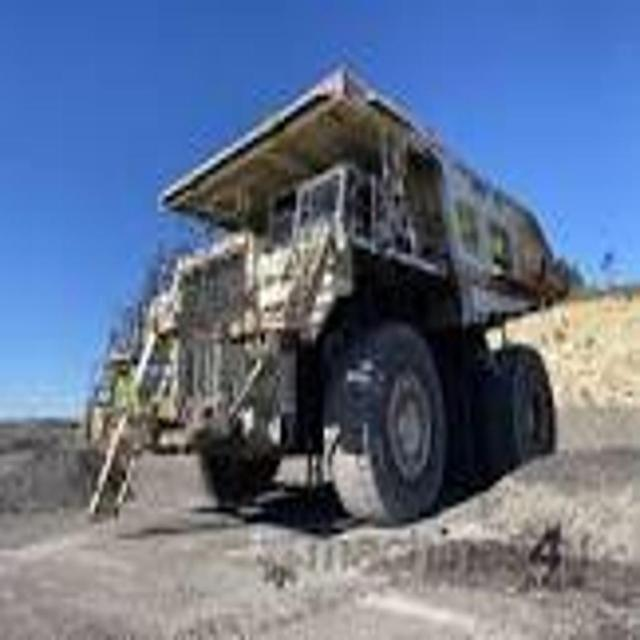dump_truck: (89, 49, 570, 533)
